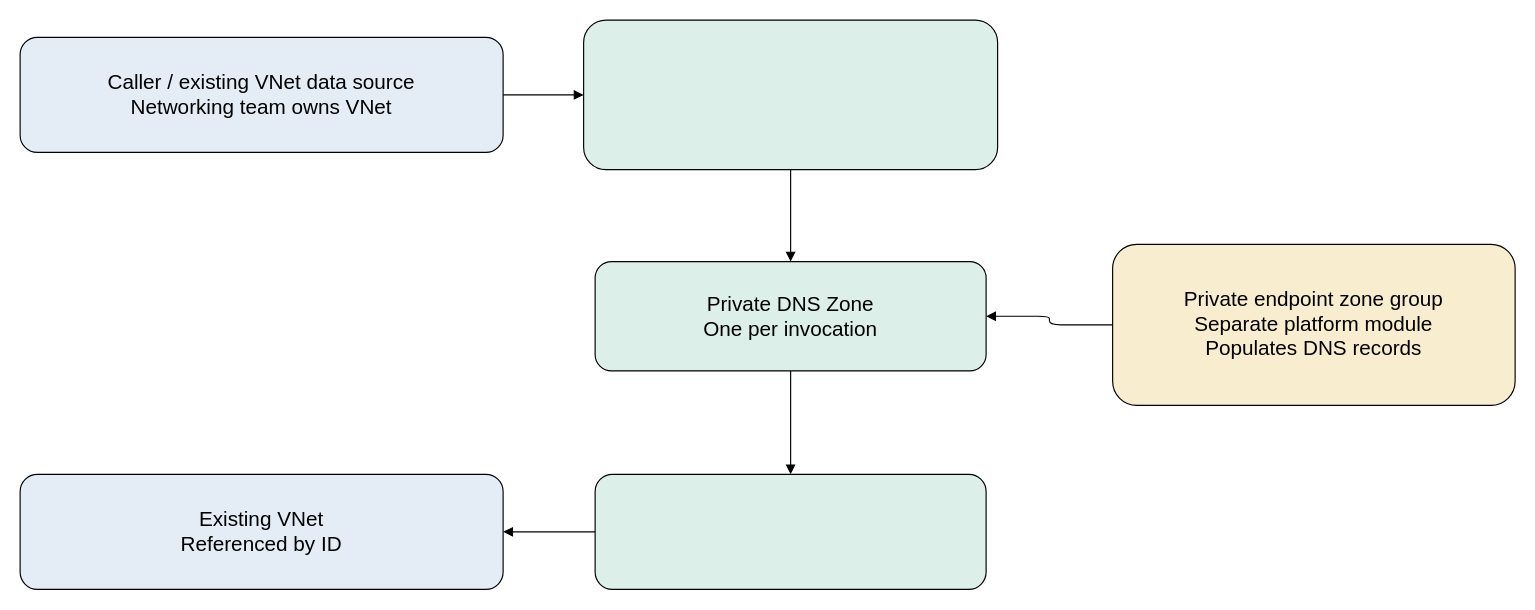
Image size: 1535x610. Some labels were removed from this diagram. The shapes that lost their labels are listed below. From the top down, each one's box as (x1, y1, x2, y2) in pixels, then its label:
(582, 19, 998, 170): Child module name / resource_group_name vnet_links / tags
(594, 473, 986, 589): VNet links (for_each) registration defaults to false
